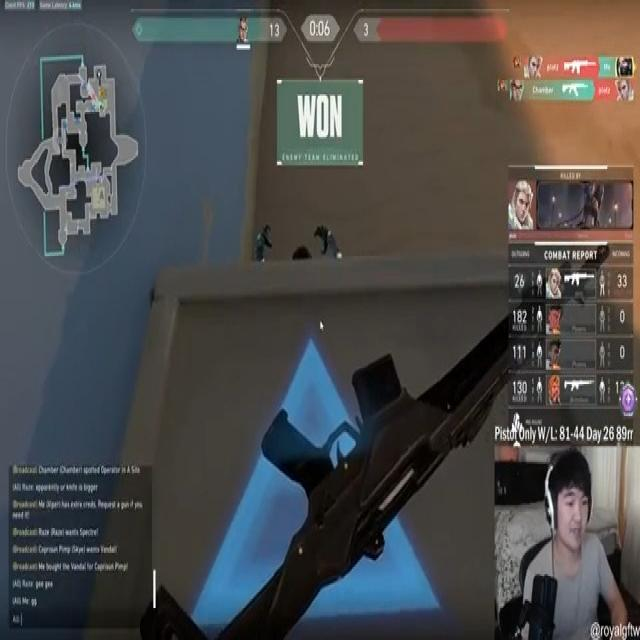gun: (141, 227, 614, 640)
